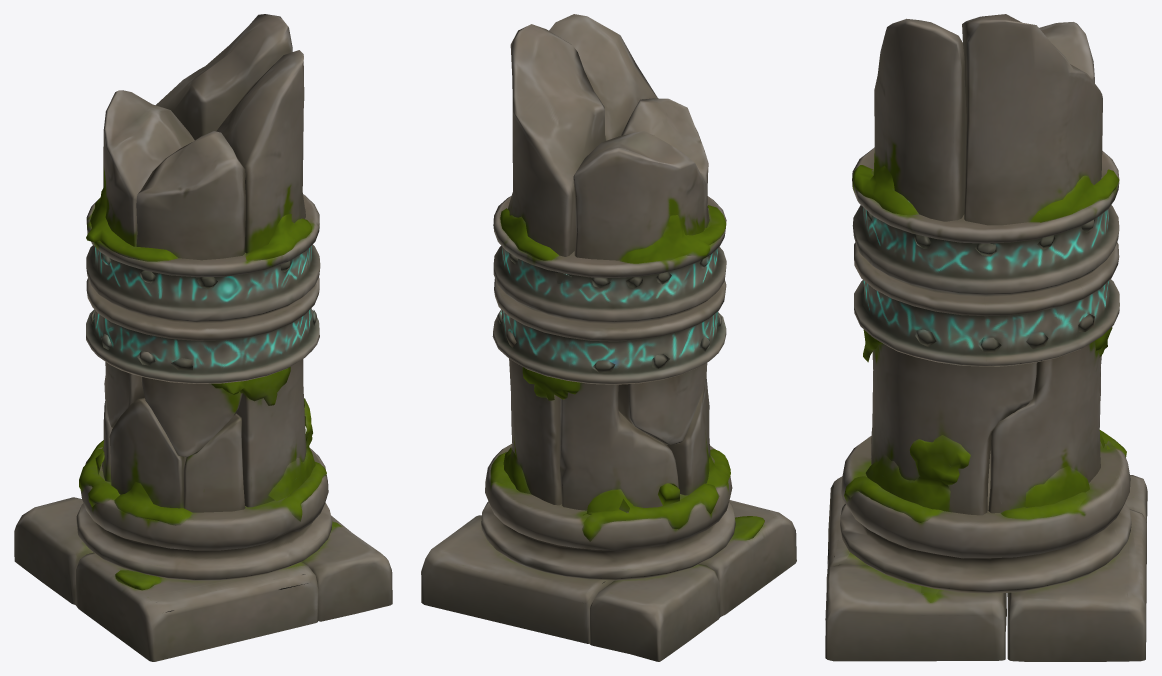
Rendered from column_raw.glb.
The picture shows the model from 3 angles, left to right: view 1: azimuth 30°, elevation 25°; view 2: azimuth 150°, elevation 25°; view 3: azimuth 270°, elevation 25°; orthographic projection. The views are drawn at different scales.
Parts seen in each view (by area): view 1: geometry_0; view 2: geometry_0; view 3: geometry_0.
Part boxes in pixels (x1,y1,x2,y2): geometry_0: (14,14,392,661); geometry_0: (421,14,796,661); geometry_0: (825,14,1147,661).
Size of the model in its own units: 0.4689 by 1 by 0.4714.
Materials: 1 (1 with a texture image).
